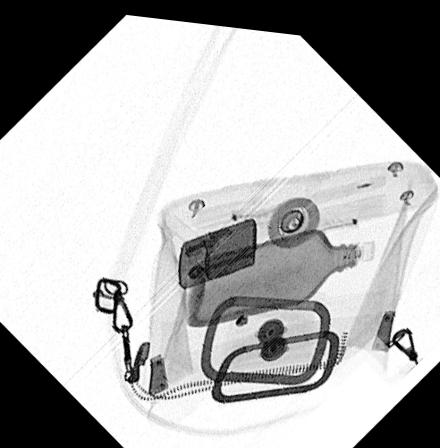Lighter: (177, 210, 257, 284)
